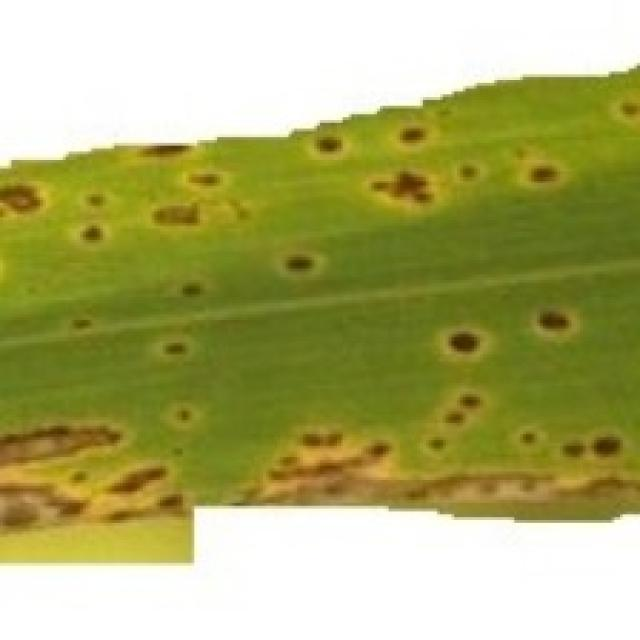Rice___Brown_Spot: (0, 65, 637, 567)
